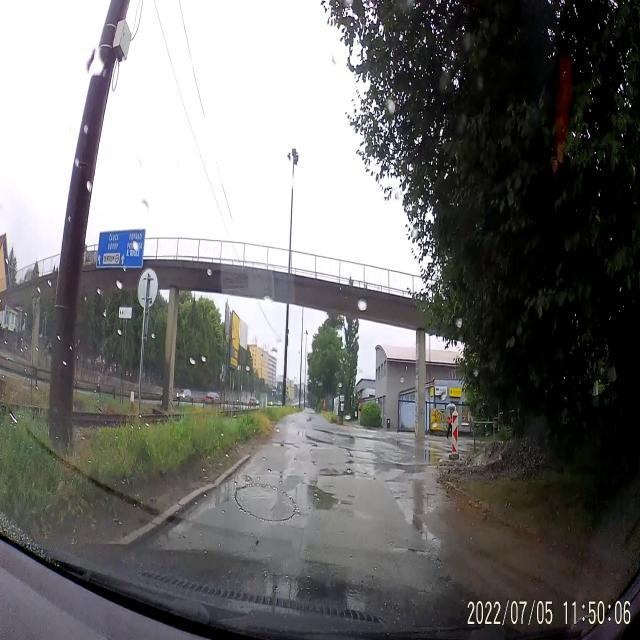Pothole: (294, 480, 340, 513), (394, 537, 434, 563), (246, 532, 262, 558), (271, 439, 300, 452), (270, 565, 282, 595), (392, 493, 414, 502), (338, 445, 356, 452), (241, 472, 251, 483), (310, 456, 318, 468), (346, 468, 354, 476)
